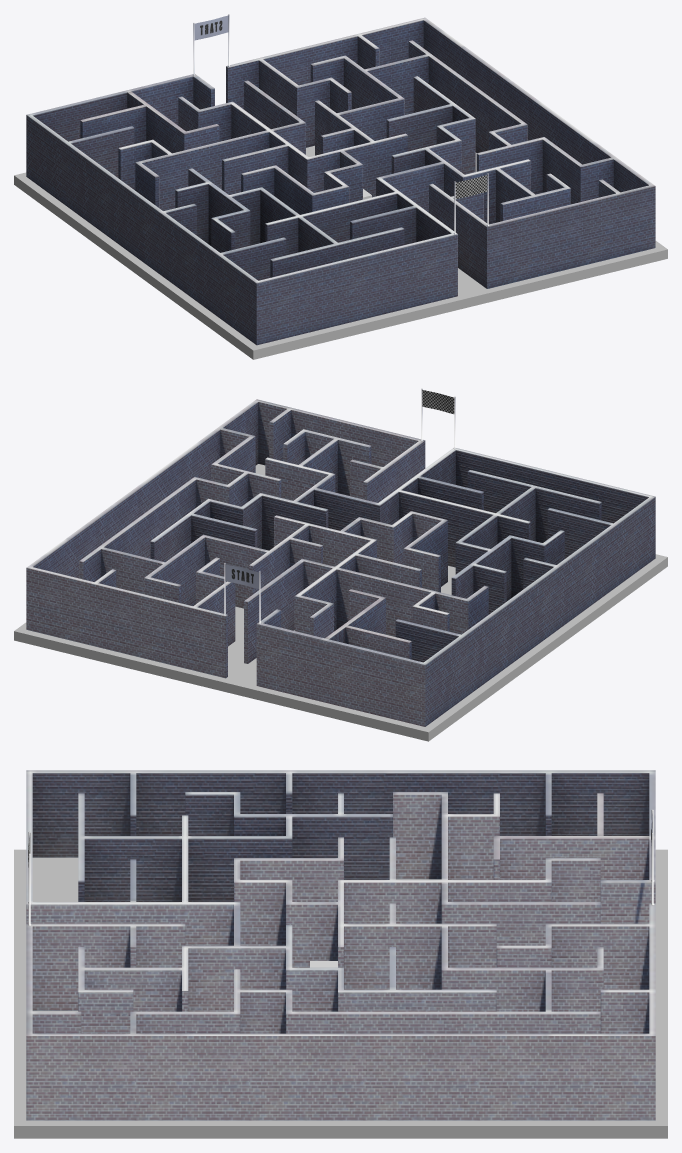
The model's file is model_3d_labyrinthe.fbx.
The picture shows the model from 3 angles, top to bottom: view 1: azimuth 30°, elevation 25°; view 2: azimuth 150°, elevation 25°; view 3: azimuth 270°, elevation 25°; orthographic projection. The views are drawn at different scales.
Parts seen in each view (by area): view 1: walls_Plane.001, ground_Plane.002, signs_Circle.001; view 2: walls_Plane.001, ground_Plane.002, signs_Circle.001; view 3: walls_Plane.001, ground_Plane.002, signs_Circle.001.
Part boxes in pixels (x1,y1,x2,y2): walls_Plane.001: [26, 17, 655, 345]; ground_Plane.002: [14, 145, 667, 359]; signs_Circle.001: [192, 14, 489, 234]; walls_Plane.001: [26, 399, 655, 726]; ground_Plane.002: [14, 464, 667, 741]; signs_Circle.001: [223, 388, 455, 624]; walls_Plane.001: [26, 770, 655, 1120]; ground_Plane.002: [14, 849, 667, 1138]; signs_Circle.001: [28, 809, 654, 925].
Size of the model in its own units: 2100 by 652 by 2100.
